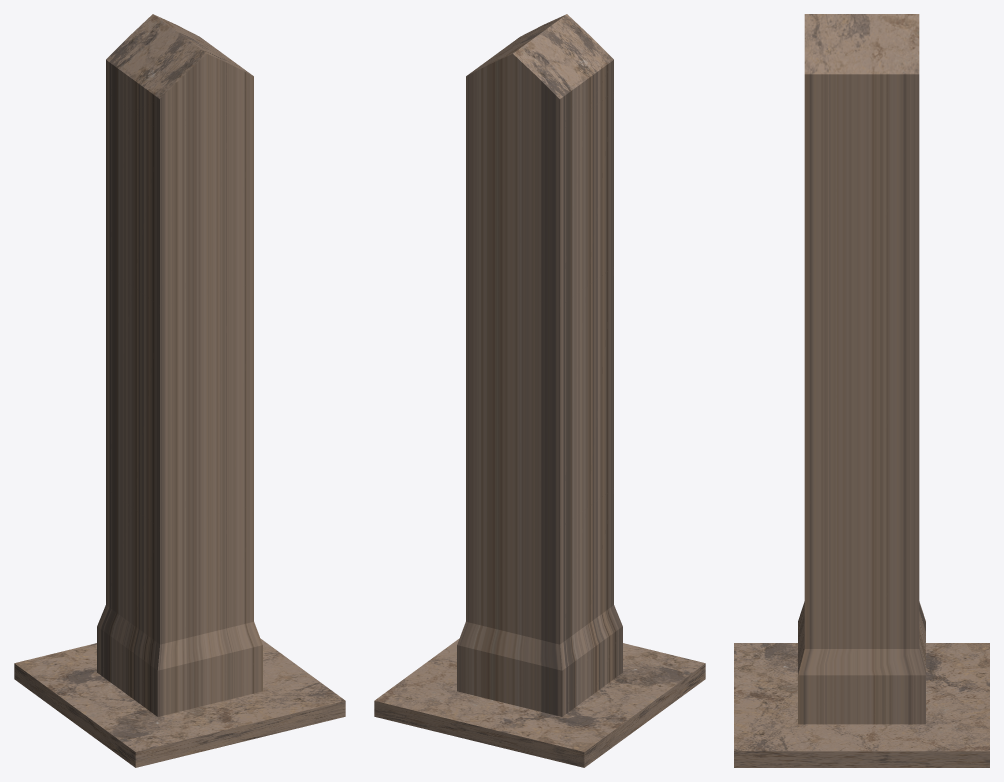
Rendered from pilar1.fbx.
The picture shows the model from 3 angles, left to right: view 1: azimuth 30°, elevation 25°; view 2: azimuth 150°, elevation 25°; view 3: azimuth 270°, elevation 25°; orthographic projection. The views are drawn at different scales.
Parts seen in each view (by area): view 1: Cubo; view 2: Cubo; view 3: Cubo.
Boxes of the visible parts, x1,y1,x2,y2 form: Cubo: [14, 14, 345, 767]; Cubo: [374, 14, 705, 767]; Cubo: [734, 14, 989, 767].
Bounding box in the file's own units: 304 × 916 × 304.
1 material, 1 textured.
